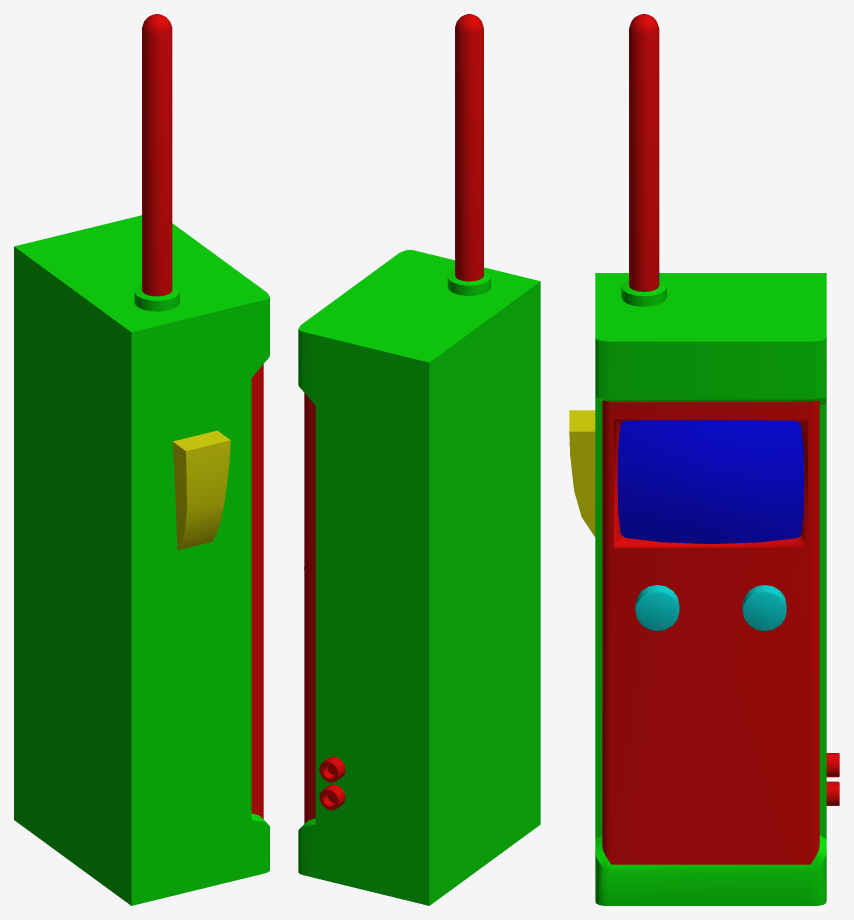
The model's file is radio.fbx.
The picture shows the model from 3 angles, left to right: view 1: azimuth 30°, elevation 25°; view 2: azimuth 150°, elevation 25°; view 3: azimuth 270°, elevation 25°; orthographic projection. The views are drawn at different scales.
Parts seen in each view (by area): view 1: RadioLowPoly.004; view 2: RadioLowPoly.004; view 3: RadioLowPoly.004.
Part boxes in pixels (x1=…): RadioLowPoly.004: x1=14, y1=14, x2=269, y2=905; RadioLowPoly.004: x1=298, y1=14, x2=540, y2=905; RadioLowPoly.004: x1=569, y1=14, x2=839, y2=905.
Size of the model in its own units: 149 by 800 by 231.
